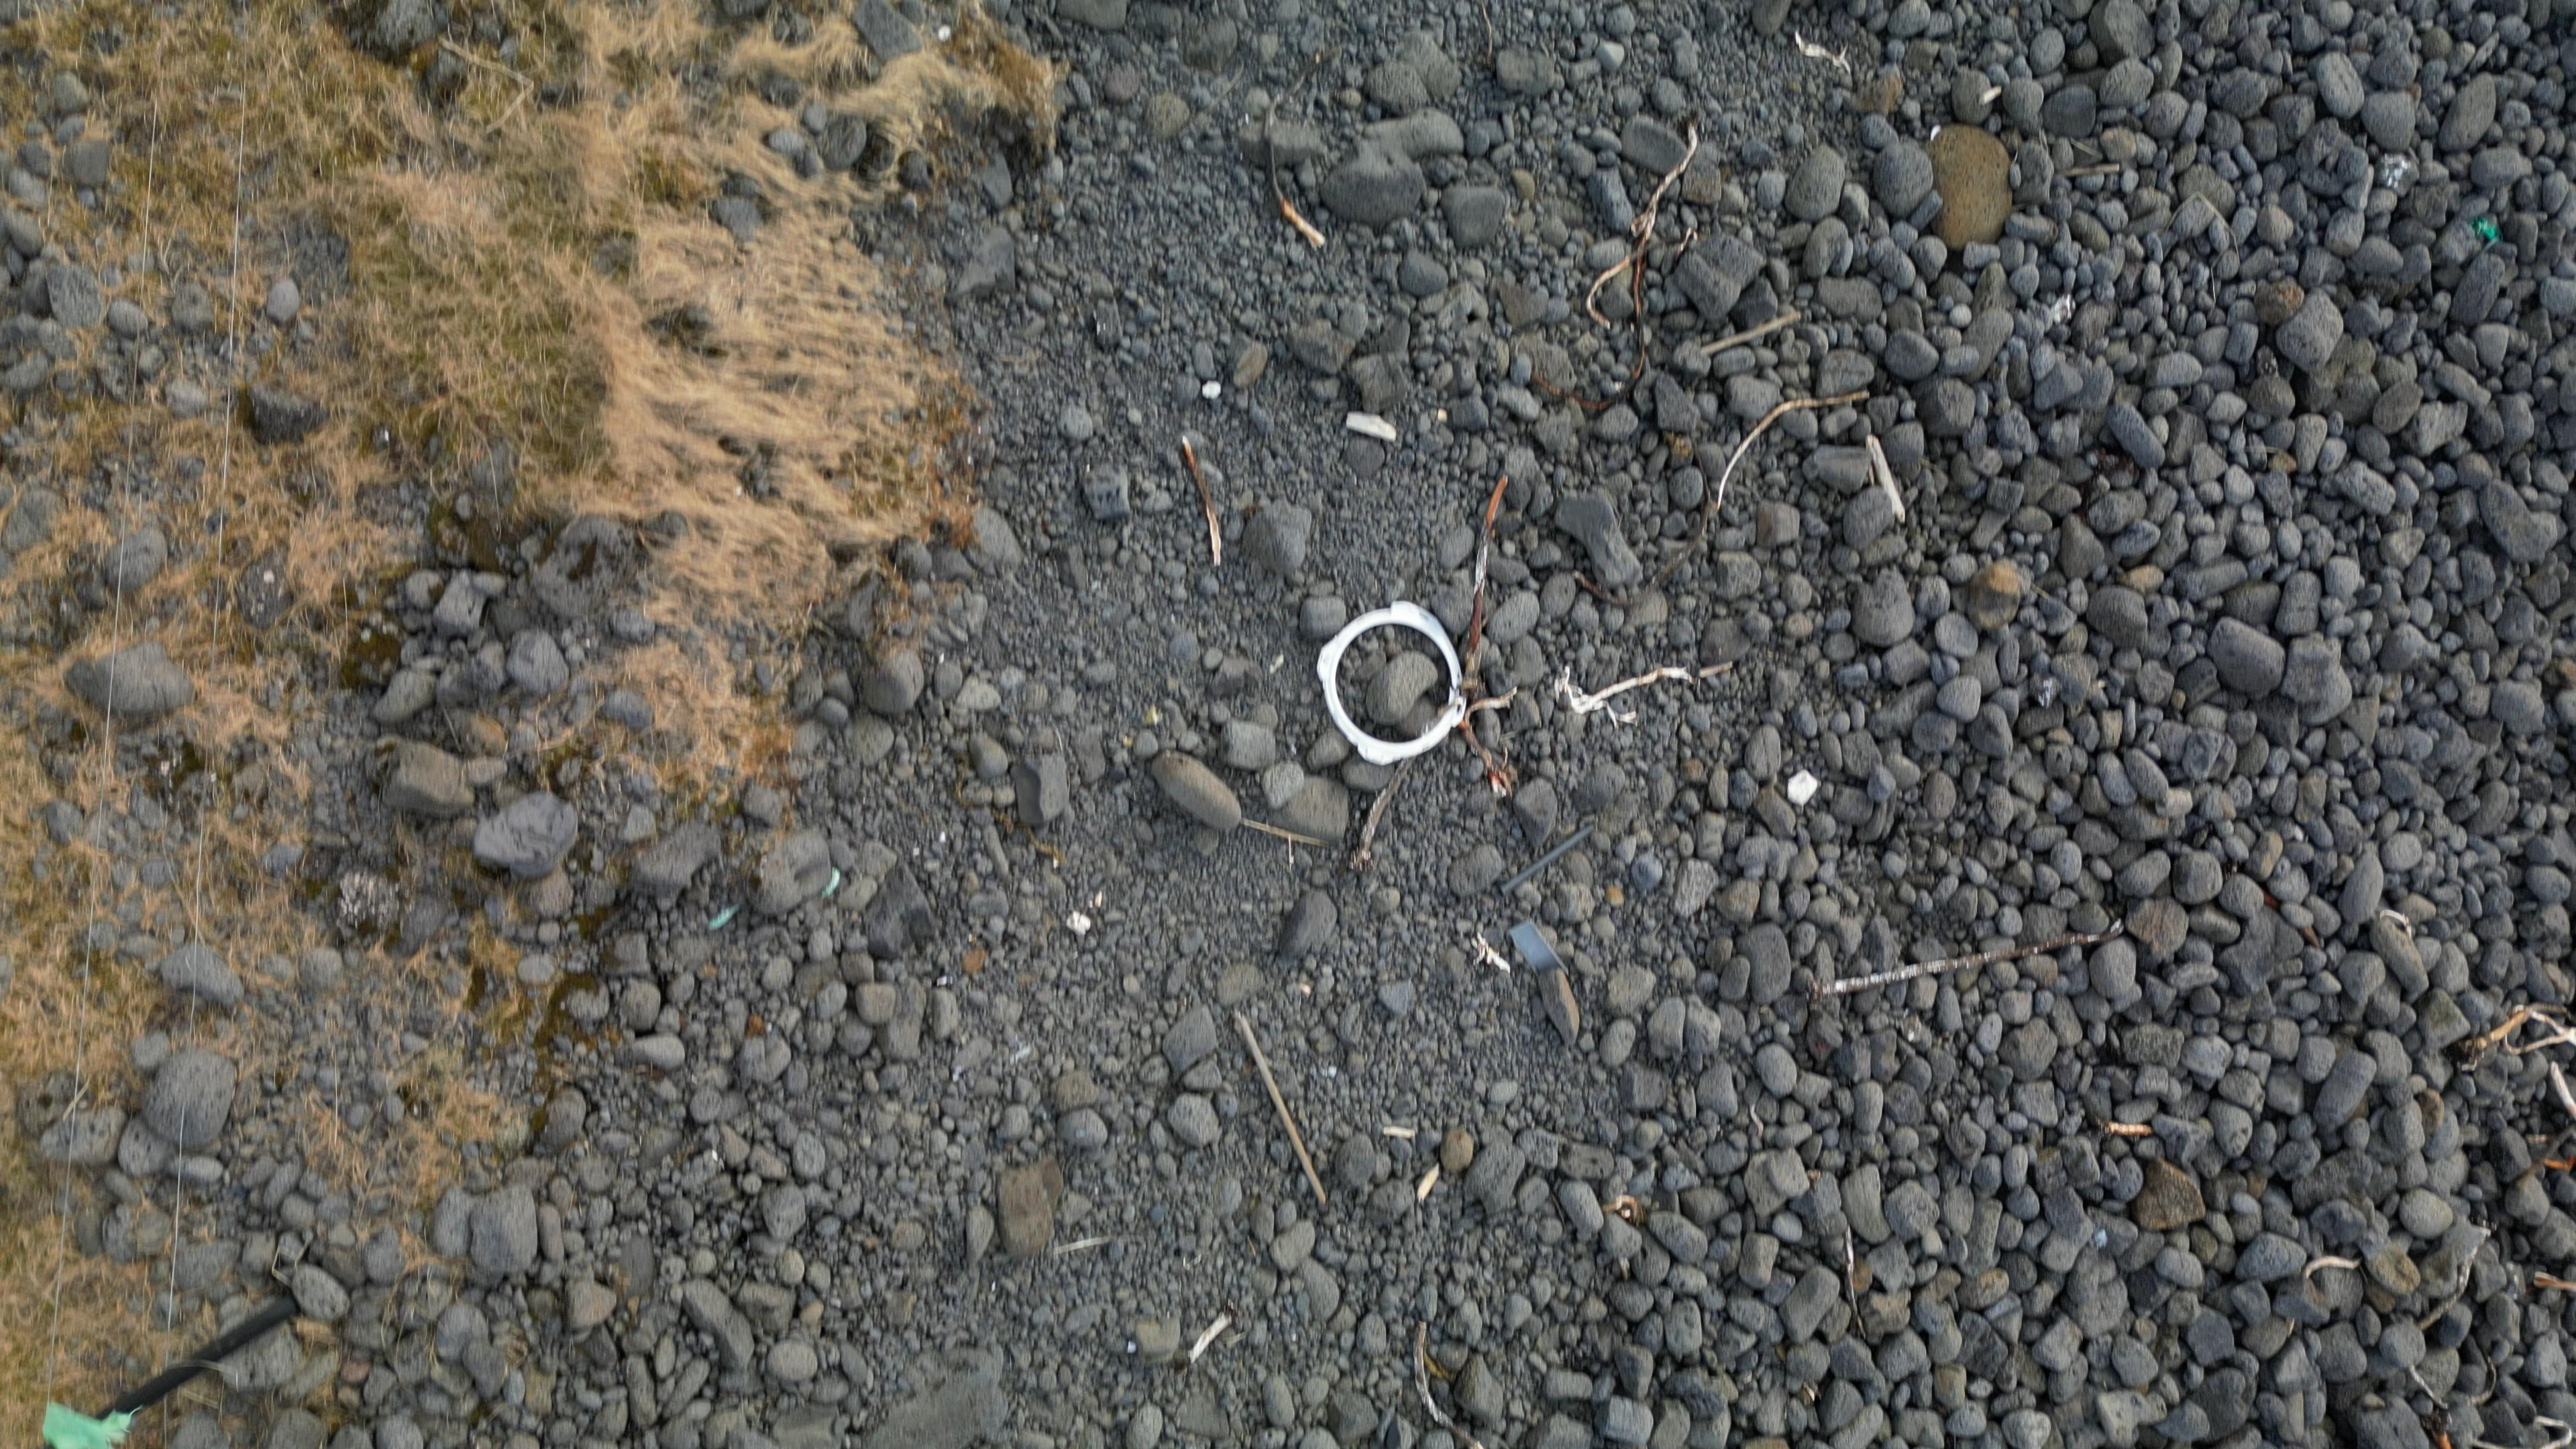trash: (1318, 604, 1469, 765), (1499, 825, 1595, 891), (1509, 920, 1564, 971)
